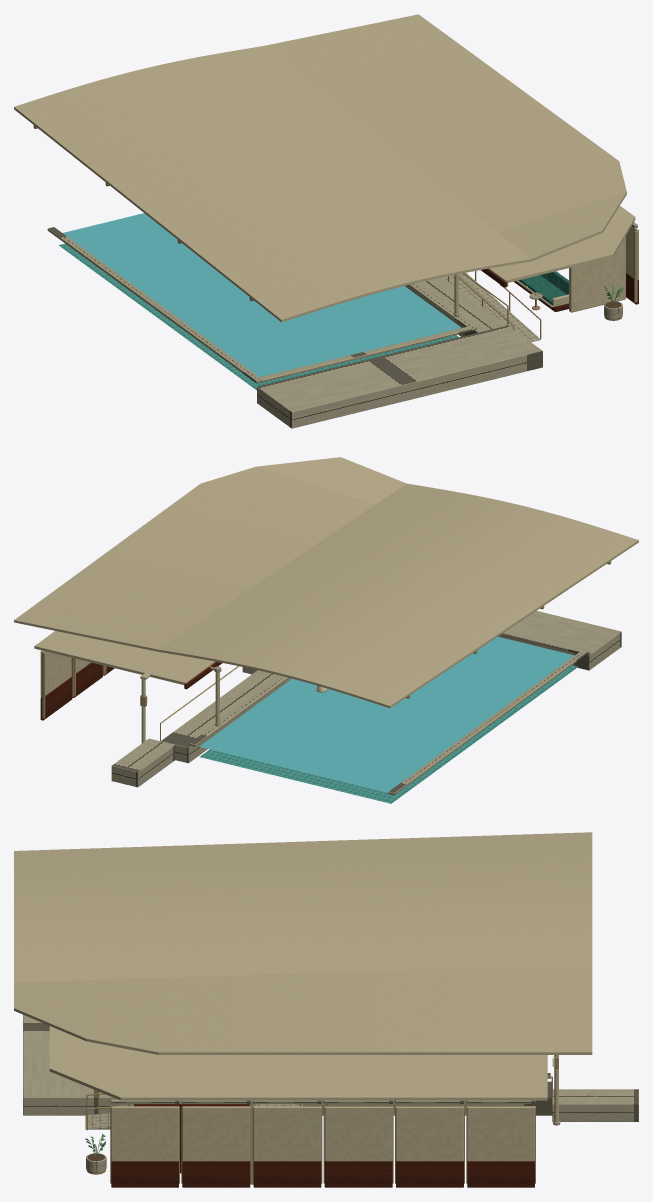
Rendered from Group6TidalNorthRoom_r003.glb.
The picture shows the model from 3 angles, top to bottom: view 1: azimuth 30°, elevation 25°; view 2: azimuth 150°, elevation 25°; view 3: azimuth 270°, elevation 25°; orthographic projection. The views are drawn at different scales.
Visible parts, largest first — view 1: G6_TIDAL__water_face, G6_TIDAL__north_wet_turn, G6_TIDAL__vault_infill_7, G6_TIDAL__vault_infill_4, G6_TIDAL__vault_infill_0, G6_TIDAL__vault_infill_1, G6_TIDAL__vault_infill_2, G6_TIDAL__vault_infill_6, G6_TIDAL__vault_infill_5, G6_TIDAL__vault_infill_3, G6_TIDAL__east_roof_infill_5, G6_TIDAL__east_roof_infill_4 (+13 smaller); view 2: G6_TIDAL__water_face, G6_TIDAL__vault_infill_0, G6_TIDAL__vault_infill_4, G6_TIDAL__vault_infill_2, G6_TIDAL__vault_infill_1, G6_TIDAL__vault_infill_5, G6_TIDAL__vault_infill_3, G6_TIDAL__vault_infill_6, G6_TIDAL__vault_infill_7, G6_TIDAL__east_roof_infill_0, G6_TIDAL__east_roof_infill_5, G6_TIDAL__east_roof_infill_4 (+15 smaller); view 3: G6_TIDAL__vault_infill_1, G6_TIDAL__vault_infill_7, G6_TIDAL__vault_infill_3, G6_TIDAL__vault_infill_6, G6_TIDAL__vault_infill_0, G6_TIDAL__vault_infill_2, G6_TIDAL__vault_infill_5, G6_TIDAL__vault_infill_4, G6_TIDAL__east_roof_infill_0, G6_TIDAL__east_roof_infill_1, G6_TIDAL__east_roof_infill_2, G6_TIDAL__east_roof_infill_3 (+27 smaller).
Part boxes in pixels (<box>): G6_TIDAL__water_face: <box>63,213,461,377</box>; G6_TIDAL__north_wet_turn: <box>257,325,542,428</box>; G6_TIDAL__vault_infill_7: <box>248,232,530,322</box>; G6_TIDAL__vault_infill_4: <box>147,152,430,241</box>; G6_TIDAL__vault_infill_0: <box>14,46,296,135</box>; G6_TIDAL__vault_infill_1: <box>47,72,329,162</box>; G6_TIDAL__vault_infill_2: <box>81,99,363,188</box>; G6_TIDAL__vault_infill_6: <box>214,206,497,295</box>; G6_TIDAL__vault_infill_5: <box>181,179,463,268</box>; G6_TIDAL__vault_infill_3: <box>114,126,396,215</box>; G6_TIDAL__east_roof_infill_5: <box>431,137,618,205</box>; G6_TIDAL__east_roof_infill_4: <box>397,112,585,178</box>; G6_TIDAL__water_face: <box>199,636,574,792</box>; G6_TIDAL__vault_infill_0: <box>158,629,421,708</box>; G6_TIDAL__vault_infill_4: <box>283,546,545,624</box>; G6_TIDAL__vault_infill_2: <box>221,587,483,666</box>; G6_TIDAL__vault_infill_1: <box>189,608,452,687</box>; G6_TIDAL__vault_infill_5: <box>314,525,576,604</box>; G6_TIDAL__vault_infill_3: <box>252,566,514,645</box>; G6_TIDAL__vault_infill_6: <box>345,504,607,583</box>; G6_TIDAL__vault_infill_7: <box>376,483,638,562</box>; G6_TIDAL__east_roof_infill_0: <box>14,597,188,651</box>; G6_TIDAL__east_roof_infill_5: <box>170,483,344,545</box>; G6_TIDAL__east_roof_infill_4: <box>138,506,313,566</box>; G6_TIDAL__vault_infill_1: <box>447,834,519,968</box>; G6_TIDAL__vault_infill_7: <box>14,848,86,982</box>; G6_TIDAL__vault_infill_3: <box>303,839,375,973</box>; G6_TIDAL__vault_infill_6: <box>86,846,158,980</box>; G6_TIDAL__vault_infill_0: <box>520,832,592,966</box>; G6_TIDAL__vault_infill_2: <box>375,837,447,970</box>; G6_TIDAL__vault_infill_5: <box>158,844,230,977</box>; G6_TIDAL__vault_infill_4: <box>231,841,302,975</box>; G6_TIDAL__east_roof_infill_0: <box>520,964,592,1054</box>; G6_TIDAL__east_roof_infill_1: <box>447,966,519,1054</box>; G6_TIDAL__east_roof_infill_2: <box>375,968,447,1054</box>; G6_TIDAL__east_roof_infill_3: <box>303,971,375,1054</box>.
Size of the model in its own units: 22.7 by 7.46 by 28.1.
Materials: 10 (5 with a texture image).
